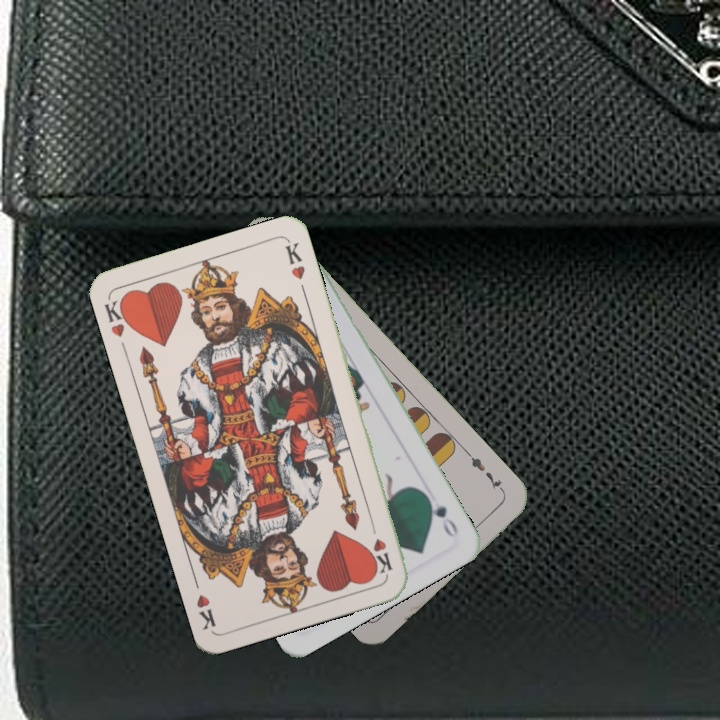E7: (463, 448, 508, 495)
GO: (420, 489, 461, 541)
HK: (367, 517, 395, 576), (100, 293, 135, 340)
